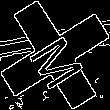M_NE: (21, 22, 89, 88)
